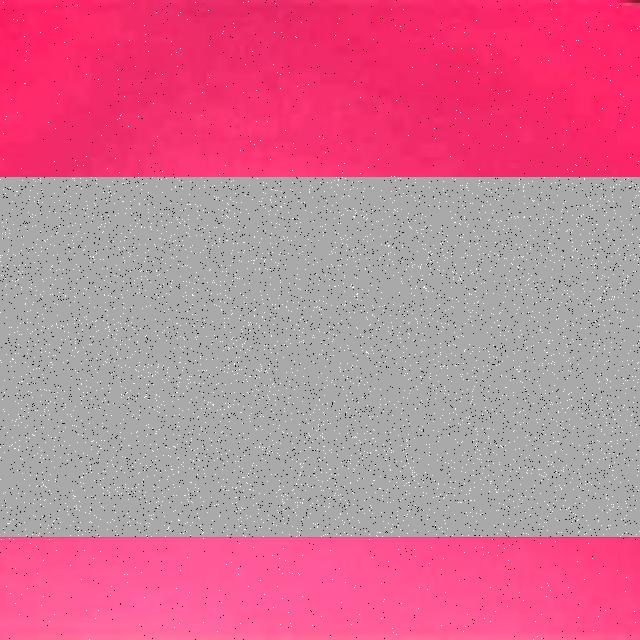dua ribu rupiah: (0, 177, 640, 537)
